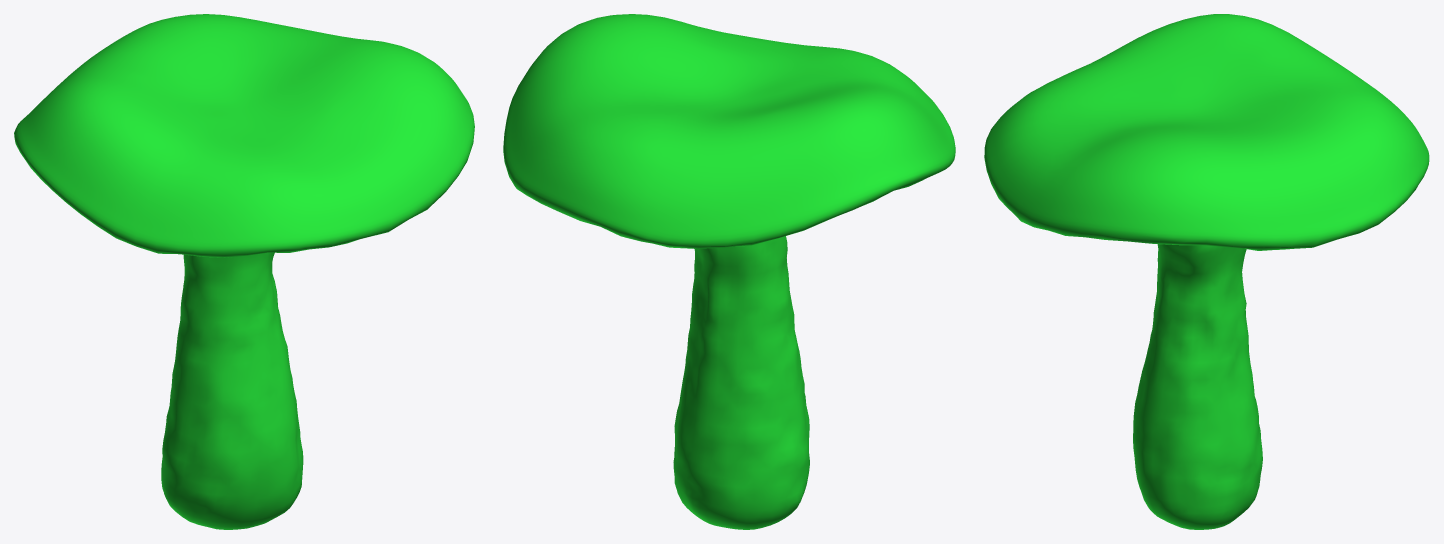
The model's file is mushroom3.glb.
The picture shows the model from 3 angles, left to right: view 1: azimuth 30°, elevation 25°; view 2: azimuth 150°, elevation 25°; view 3: azimuth 270°, elevation 25°; orthographic projection. The views are drawn at different scales.
Parts seen in each view (by area): view 1: XZZX_Group1; view 2: XZZX_Group1; view 3: XZZX_Group1.
Boxes of the visible parts, <box> form: XZZX_Group1: <box>14,14,474,529</box>; XZZX_Group1: <box>503,14,955,529</box>; XZZX_Group1: <box>984,14,1429,529</box>.
Bounding box in the file's own units: 3.2 × 3.42 × 3.13.
